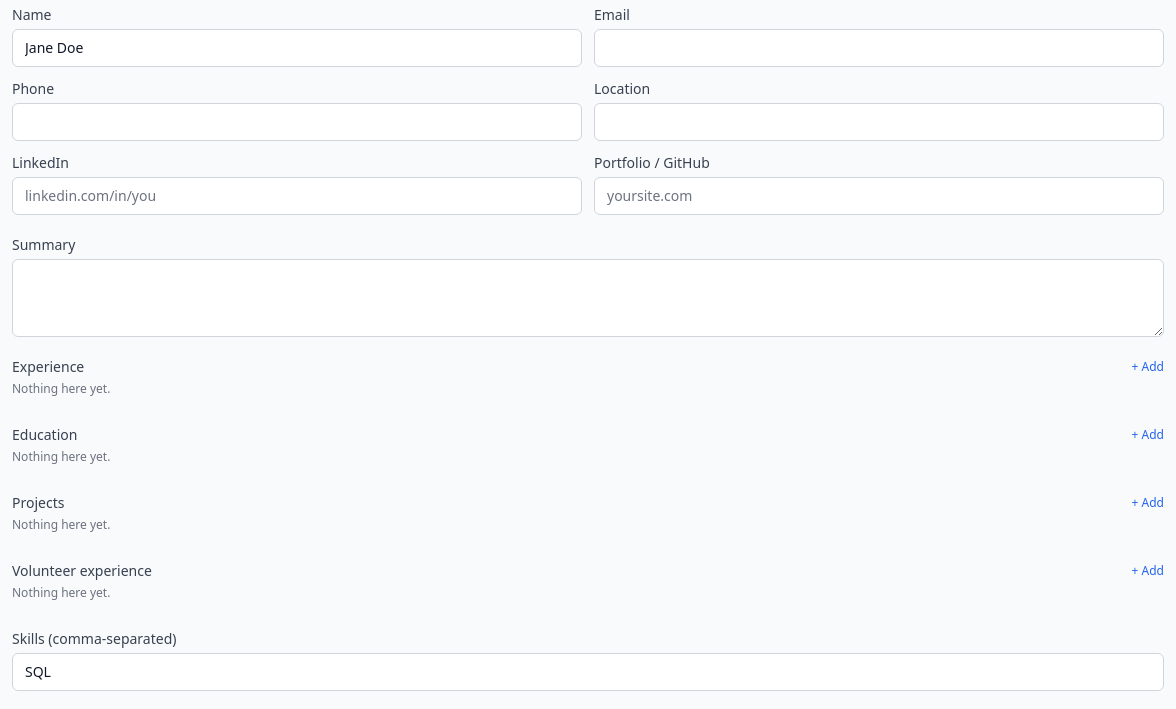
Scenario: SavedProfileEditor — version-checked saves › any other save failure keeps the normal Save button (a retry can succeed)
The width and height of the screenshot is (1176, 709).
Type " Jr" into the field labelled "Name" at point(297, 48), box x1=12 y1=29 x2=582 y2=67
(page scrolled)
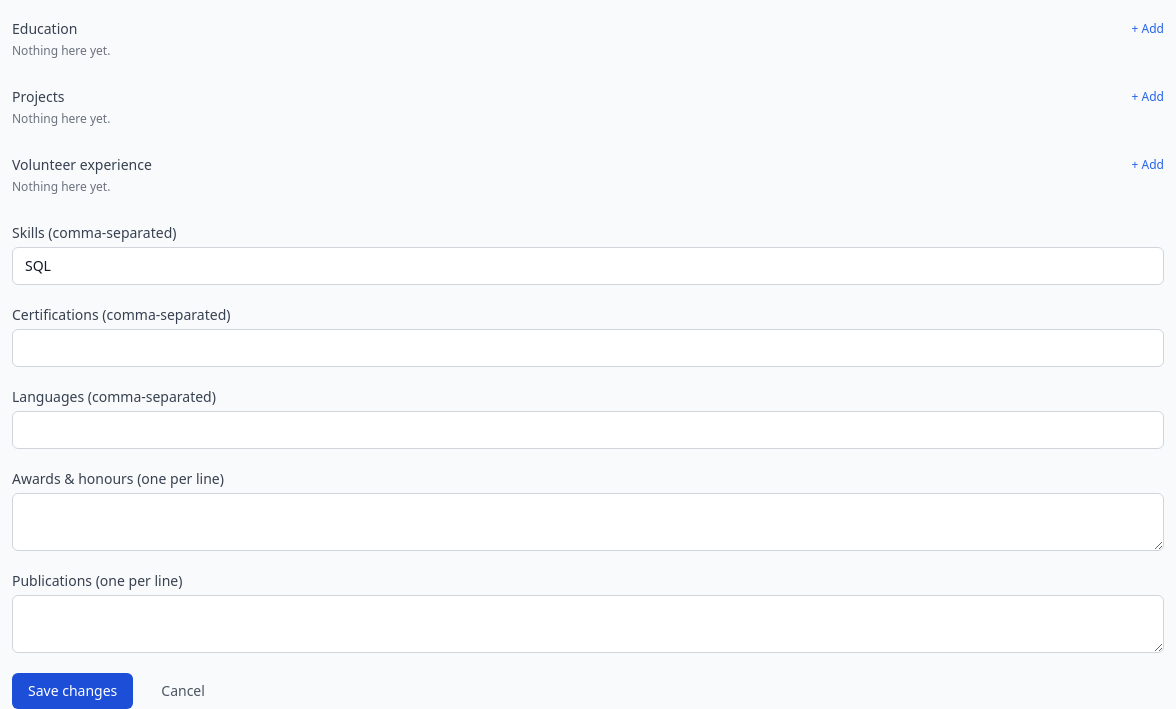
Click the button "Save changes" at point(73, 691), box x1=12 y1=673 x2=133 y2=708
(page scrolled)
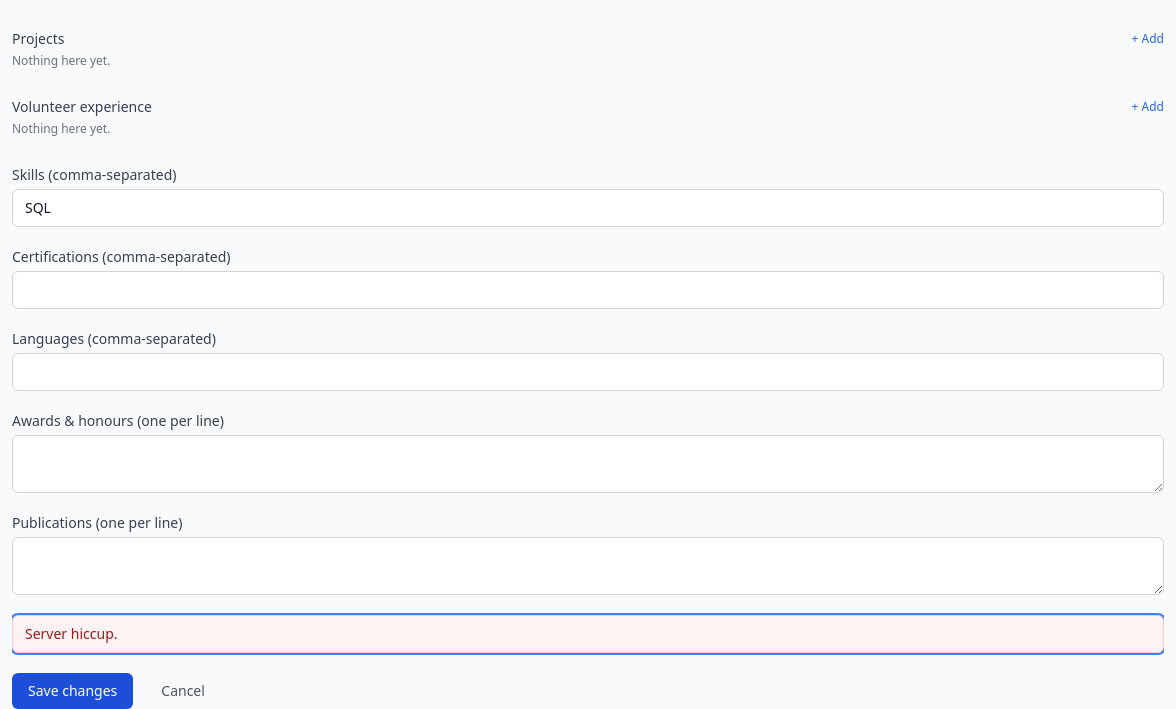
Expected: the text "Server hiccup." is shown, x1=12 y1=615 x2=1164 y2=653
